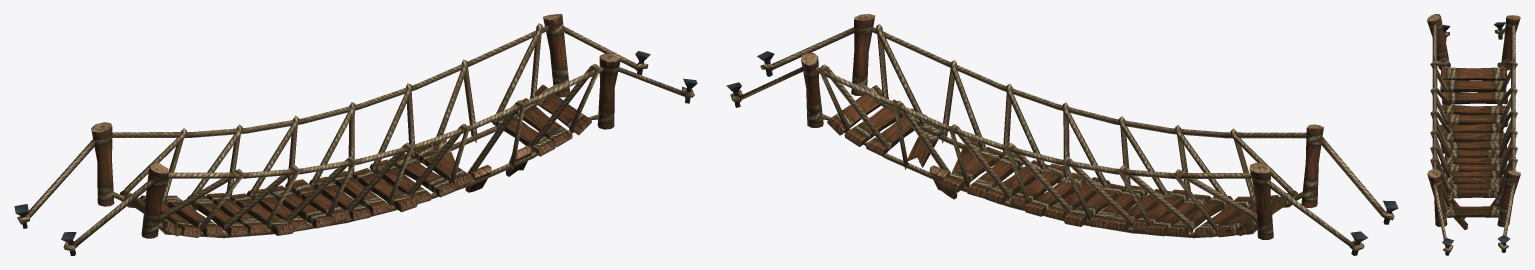
Rendered from rope_bridge_example_05.fbx.
3 renders of one model, left to right at view 1: azimuth 30°, elevation 25°; view 2: azimuth 150°, elevation 25°; view 3: azimuth 270°, elevation 25°, orthographic. The views are drawn at different scales.
Parts seen in each view (by area): view 1: rope_bridge_example_05; view 2: rope_bridge_example_05; view 3: rope_bridge_example_05.
Part boxes in pixels (box(x1,y1,x2,y2)): rope_bridge_example_05: box(14, 14, 697, 255); rope_bridge_example_05: box(726, 14, 1398, 255); rope_bridge_example_05: box(1427, 14, 1520, 255).
Size of the model in its own units: 1052 by 197 by 187.
